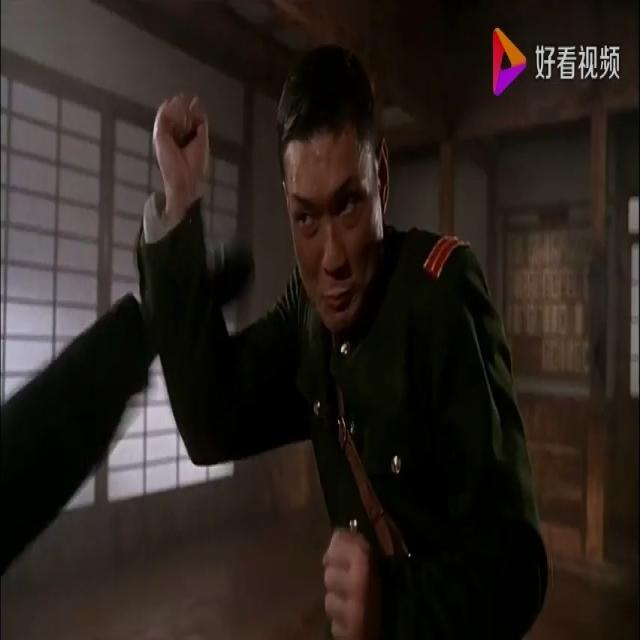fight: (1, 29, 554, 639)
